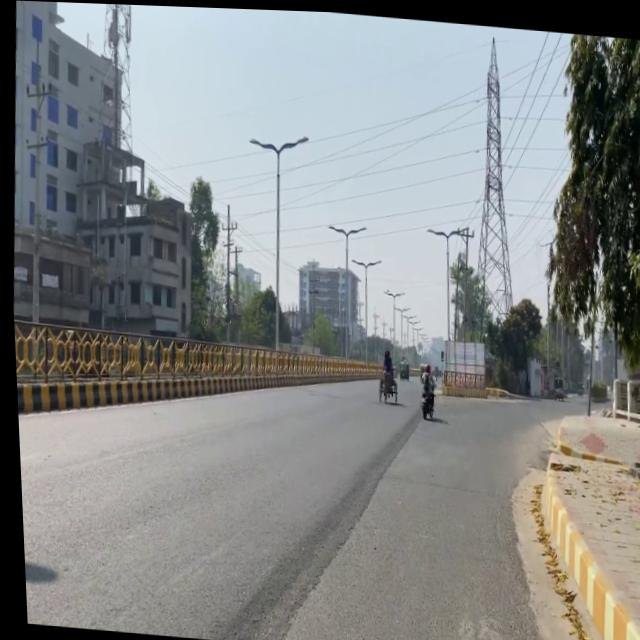Construction-barrier: (206, 419, 426, 640), (536, 527, 640, 640), (552, 437, 620, 461)
Fallen-tree: (415, 374, 434, 418), (549, 382, 563, 397)
Garbage: (606, 372, 640, 418)
Garbage-bin: (377, 346, 393, 393), (395, 353, 407, 378)
Pole: (11, 311, 195, 435)
Traffic-light: (524, 402, 640, 640)
